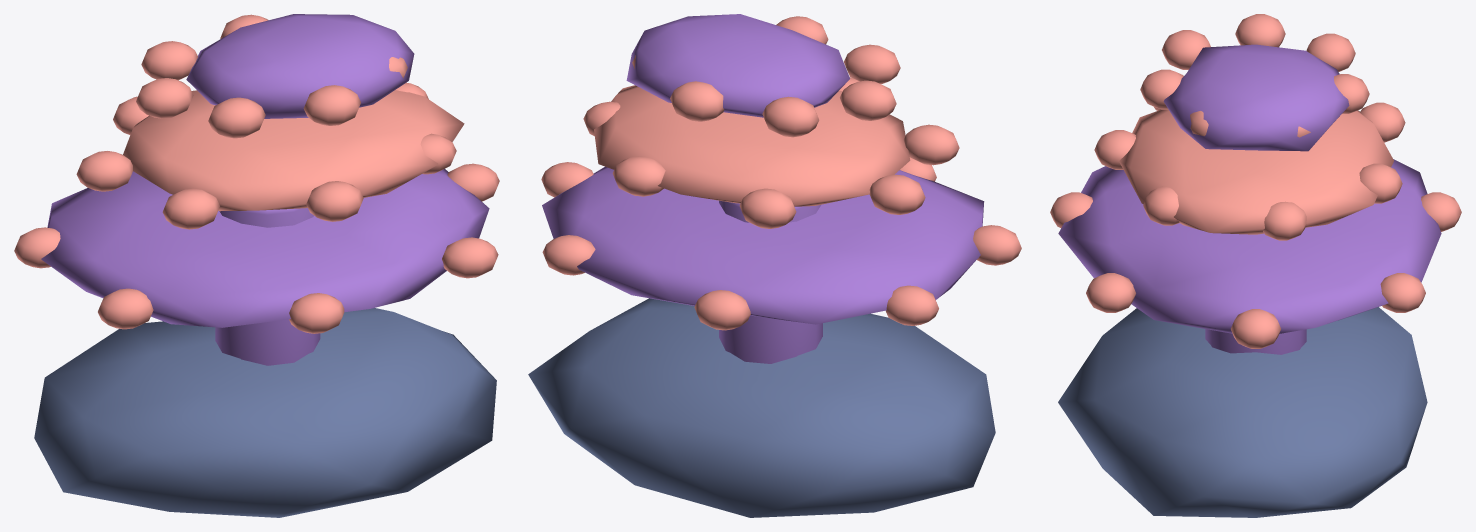
The model's file is r003_reef_coral_mass_placement_coral_04.glb.
3 views of the same model, side by side, from view 1: azimuth 30°, elevation 25°; view 2: azimuth 150°, elevation 25°; view 3: azimuth 270°, elevation 25° (orthographic). The views are drawn at different scales.
Visible parts, largest first — view 1: r003_reef_coral_mass_placement_coral_04.001; view 2: r003_reef_coral_mass_placement_coral_04.001; view 3: r003_reef_coral_mass_placement_coral_04.001.
Boxes of the visible parts, left/top/right/bottom form: r003_reef_coral_mass_placement_coral_04.001: left=14, top=14, right=499, bottom=517; r003_reef_coral_mass_placement_coral_04.001: left=528, top=14, right=1021, bottom=517; r003_reef_coral_mass_placement_coral_04.001: left=1050, top=14, right=1461, bottom=517.
Bounding box in the file's own units: 2.68 × 2.56 × 2.28.
